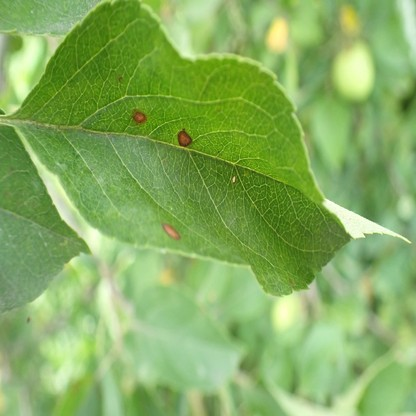frogeye_leaf_spot: (162, 223, 182, 241), (178, 130, 193, 146), (133, 111, 147, 123)
